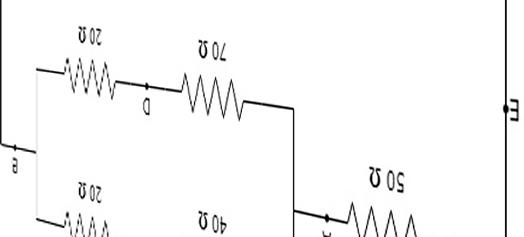resistor: (171, 73, 264, 120), (58, 59, 132, 99), (341, 193, 412, 233), (56, 209, 125, 235)
